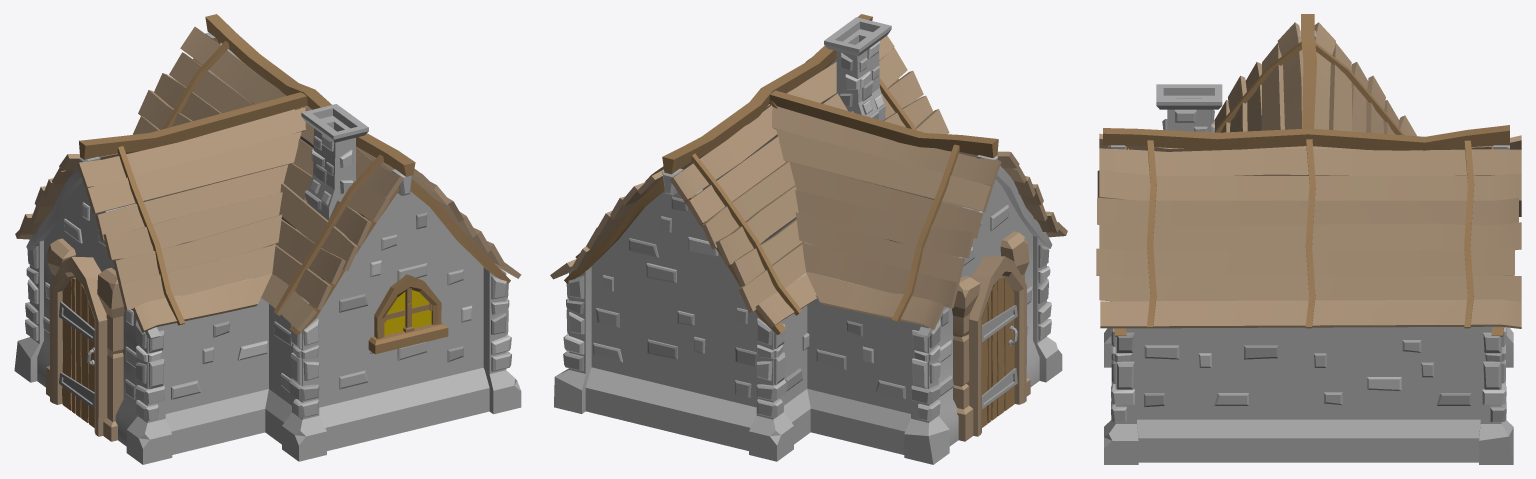
File: house.fbx
3 renders of one model, left to right at view 1: azimuth 30°, elevation 25°; view 2: azimuth 150°, elevation 25°; view 3: azimuth 270°, elevation 25°, orthographic. The views are drawn at different scales.
Parts seen in each view (by area): view 1: house_new; view 2: house_new; view 3: house_new.
Part boxes in pixels (left/top/right/bottom): house_new: left=14, top=14, right=521, bottom=464; house_new: left=550, top=14, right=1067, bottom=464; house_new: left=1096, top=14, right=1521, bottom=464.
Bounding box in the file's own units: 333 × 265 × 340.
